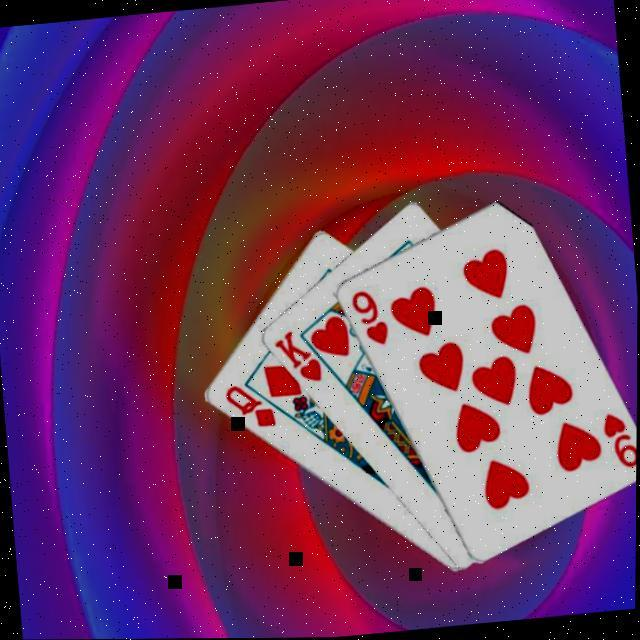9H: (348, 287, 393, 352), (600, 409, 637, 474)
KH: (271, 327, 327, 389)
QD: (223, 380, 281, 435)
